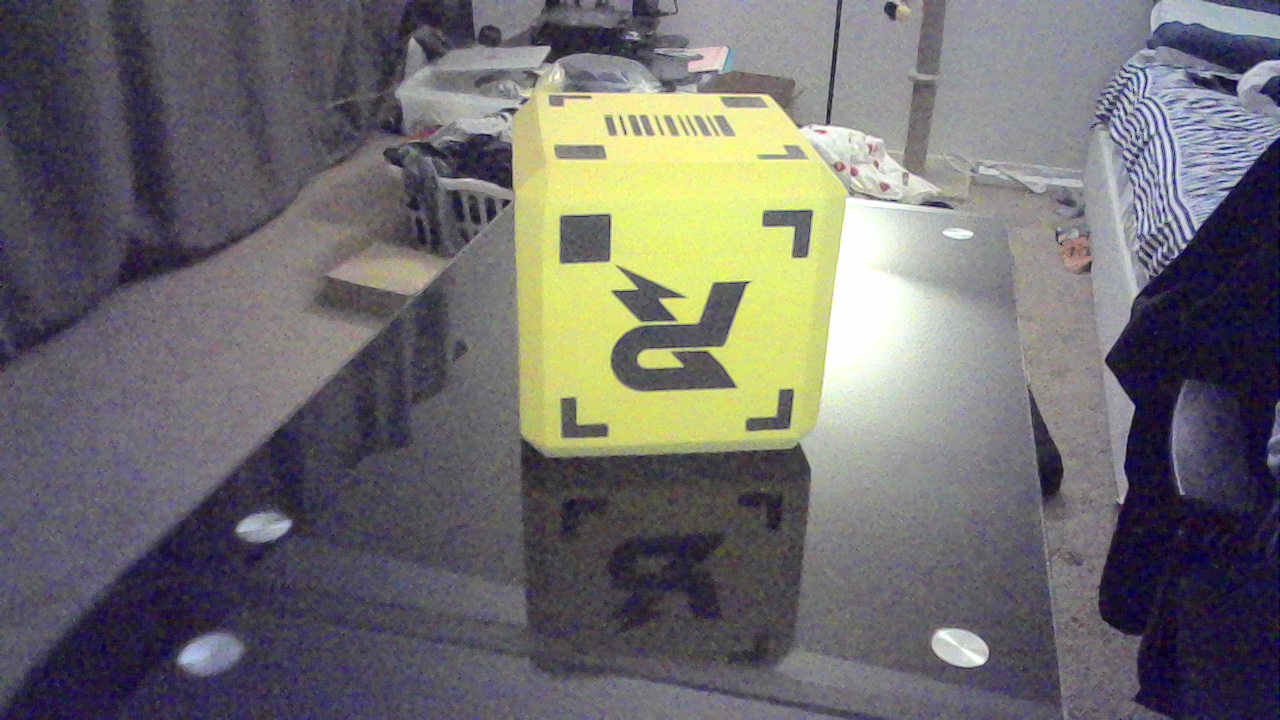Barcode: (592, 99, 786, 162)
R: (608, 229, 758, 425)
